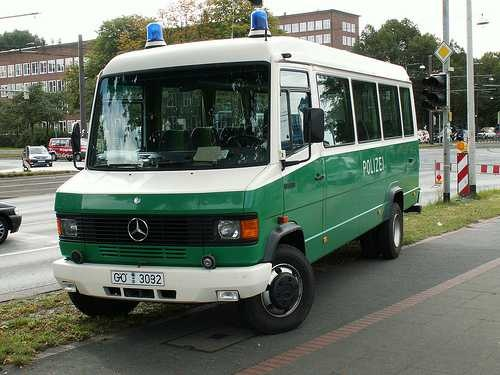Police Van: (36, 3, 437, 331)
